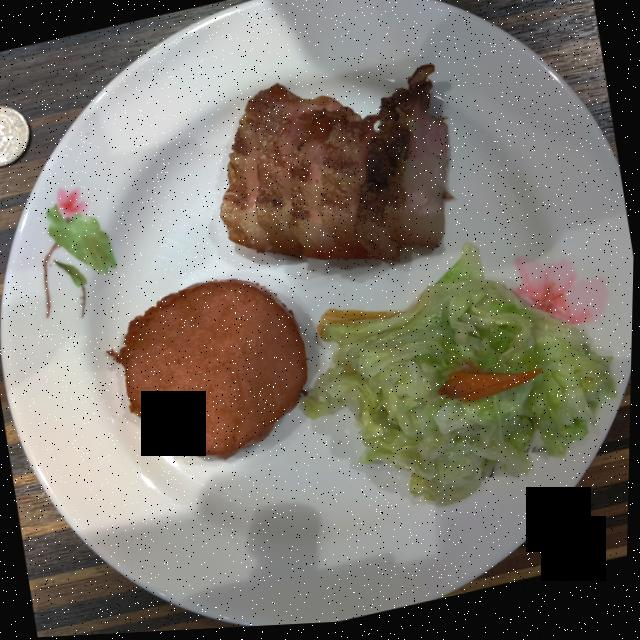Spam: (110, 281, 309, 460)
cabbage: (303, 248, 615, 509)
coin: (0, 106, 30, 166)
red grilled pork: (222, 69, 449, 266)
